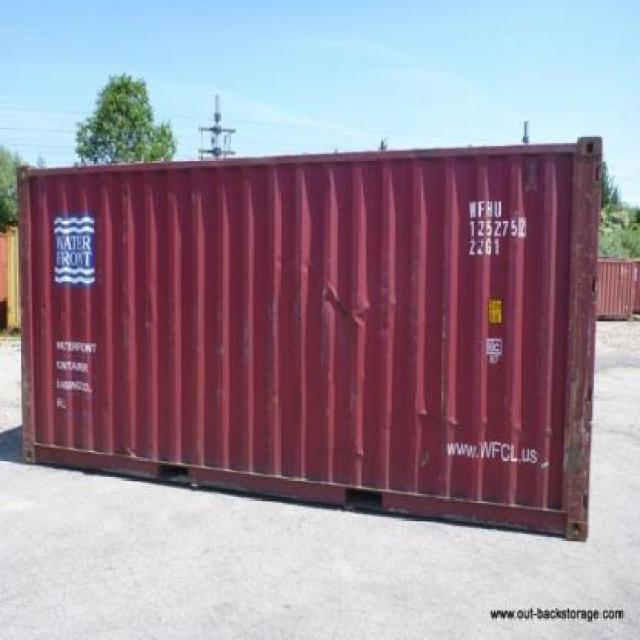Minor-Dent: (316, 269, 385, 328)
Rust: (563, 311, 591, 523)
